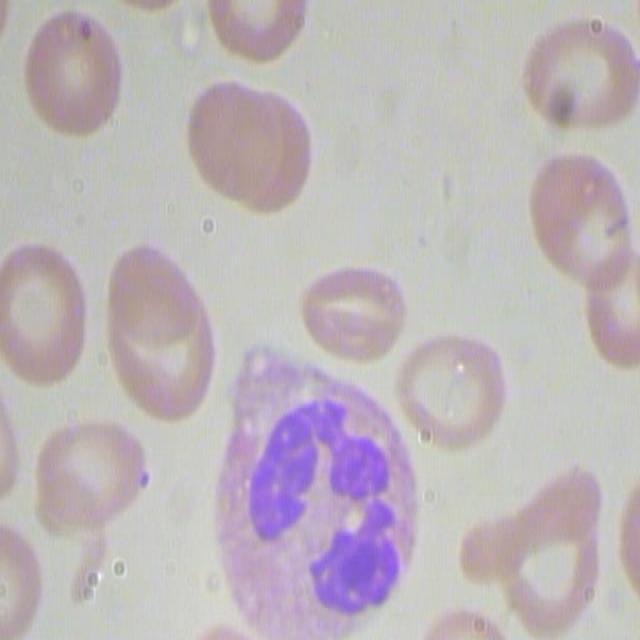RBC: (104, 242, 223, 432), (483, 460, 605, 637), (182, 72, 316, 217), (528, 142, 636, 286), (394, 322, 510, 456), (518, 9, 638, 134), (24, 6, 128, 140), (295, 253, 410, 373), (0, 237, 93, 385), (31, 419, 147, 537), (584, 247, 640, 366), (201, 0, 309, 61), (0, 517, 42, 639)
WBC: (214, 354, 422, 636)
